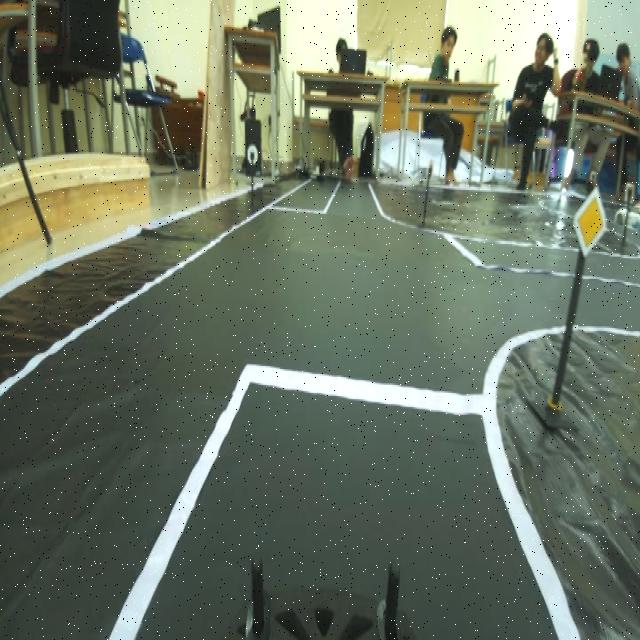priority: (568, 175, 616, 257)
